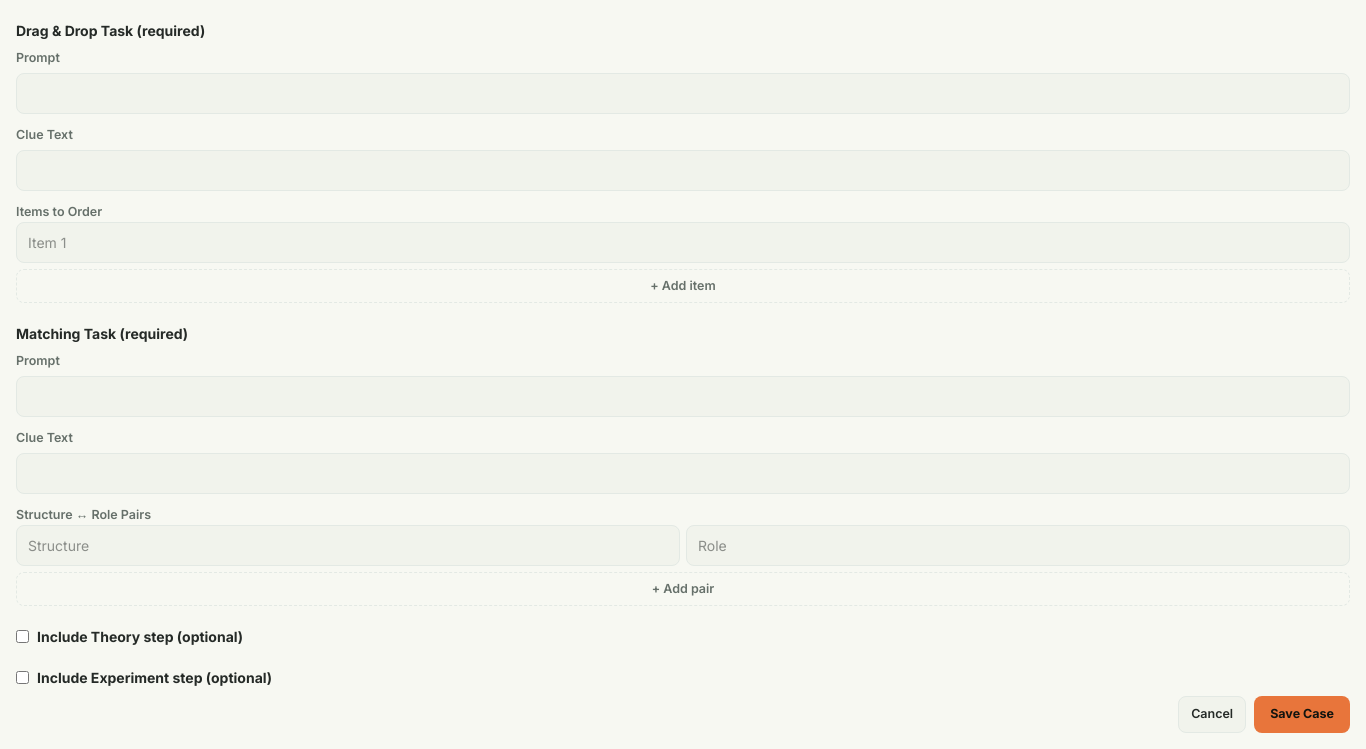
it: AdminCaseEditor › Save button shows a disabled 'Saving...' state while the request is in flight
This screenshot has width=1366, height=749.
(page scrolled)
Click the button "Save Case" at (1302, 715), box top-left (1254, 696), bottom-right (1350, 733)
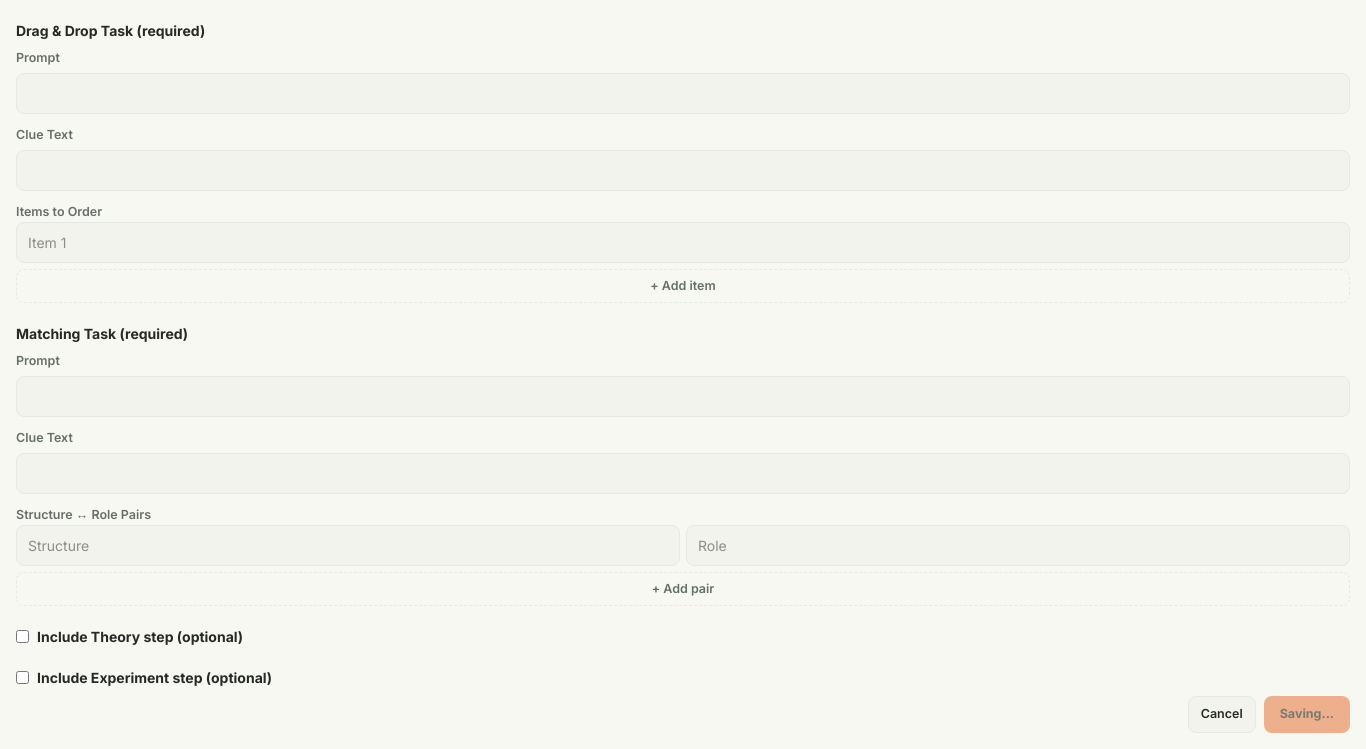
Expected: the button "Saving..." is disabled, top-left (1264, 696), bottom-right (1350, 733)
